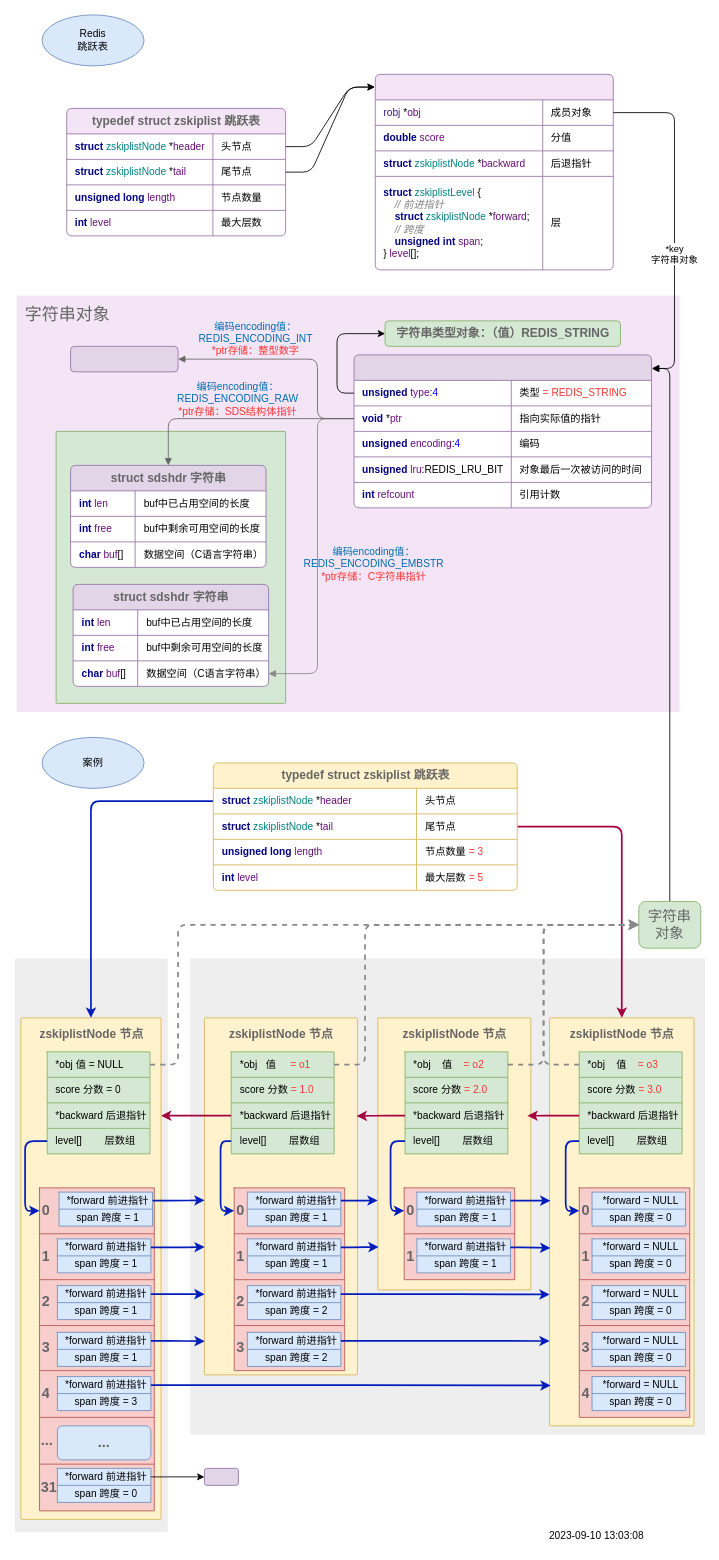
Some shapes in this 719 by 1560 pixel diagram are drawn without their labels. Each missing label, with the box of its shape:
NULL: (204, 1468, 238, 1485)
sds字符串对象: (55, 431, 286, 703)
typedef struct redisObject 数据对象: (353, 354, 652, 508)
typedef struct zskiplistNode 跳跃表节点: (374, 74, 613, 270)
内容节点 存放数据，双向链表 根据分数有序储存: (190, 958, 705, 1434)
头节点 无数据: (14, 958, 167, 1532)
存储一个整型数字: (70, 346, 178, 372)
